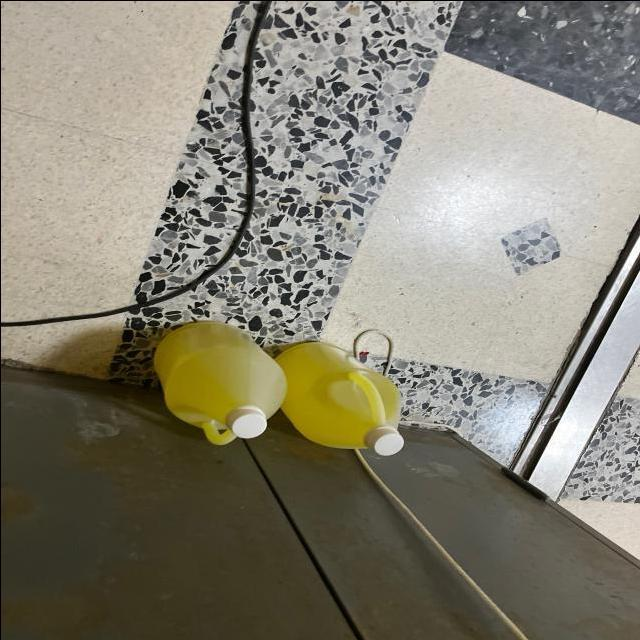HDPE Plastic: (144, 319, 288, 453), (276, 334, 412, 468)
